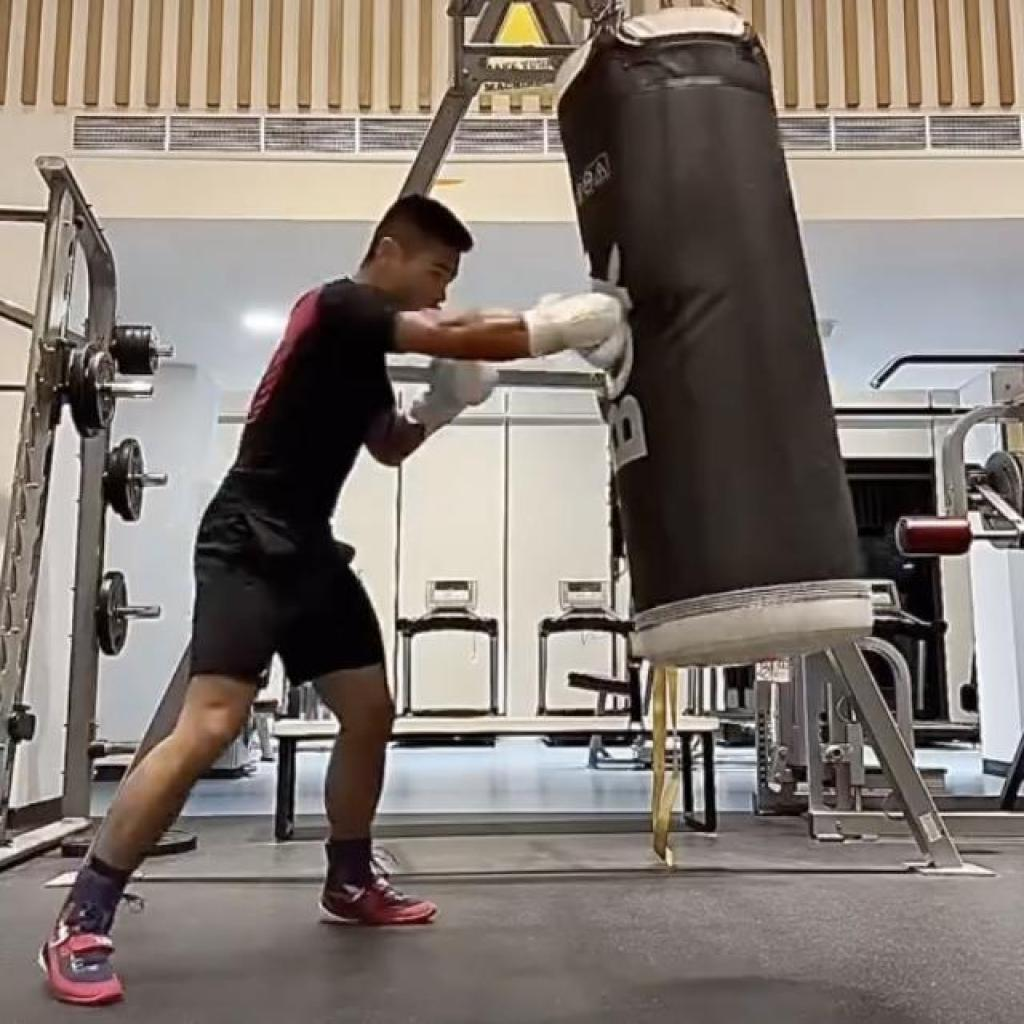bag: (540, 8, 878, 661)
cross: (40, 179, 629, 1014)
